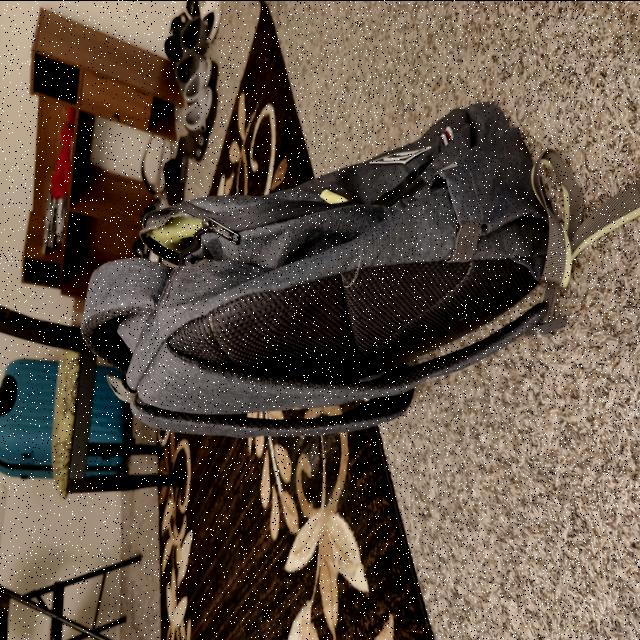bag: (78, 138, 564, 410)
